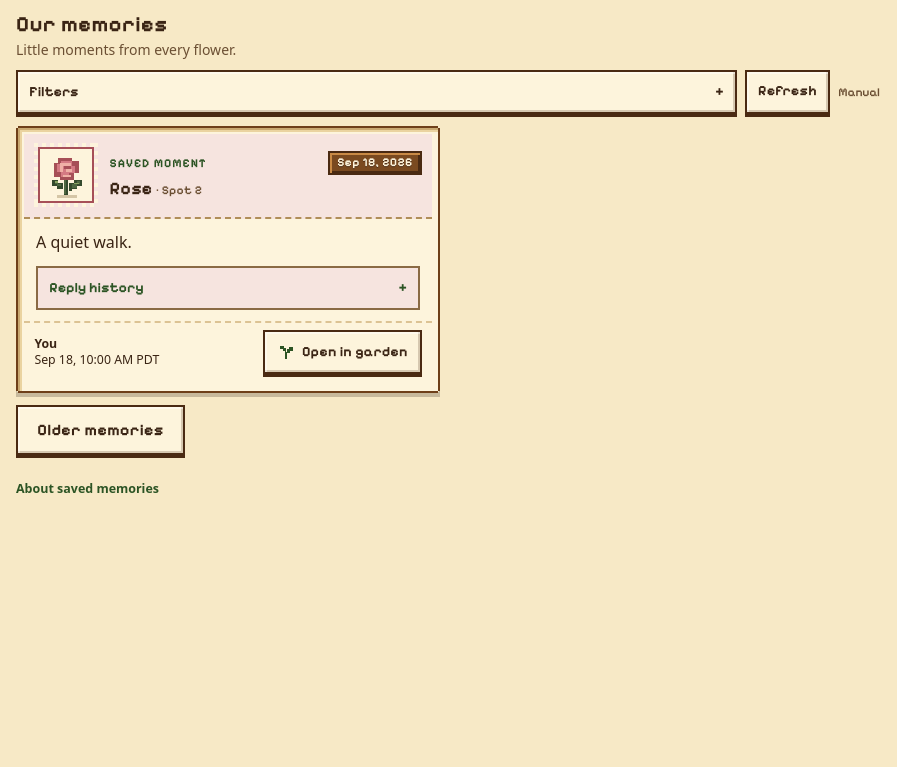
Scenario: rejects an old filter response and keeps real empty/error states distinct
The width and height of the screenshot is (897, 767).
Click the button "Older memories": (100, 430) [16,405,185,455]
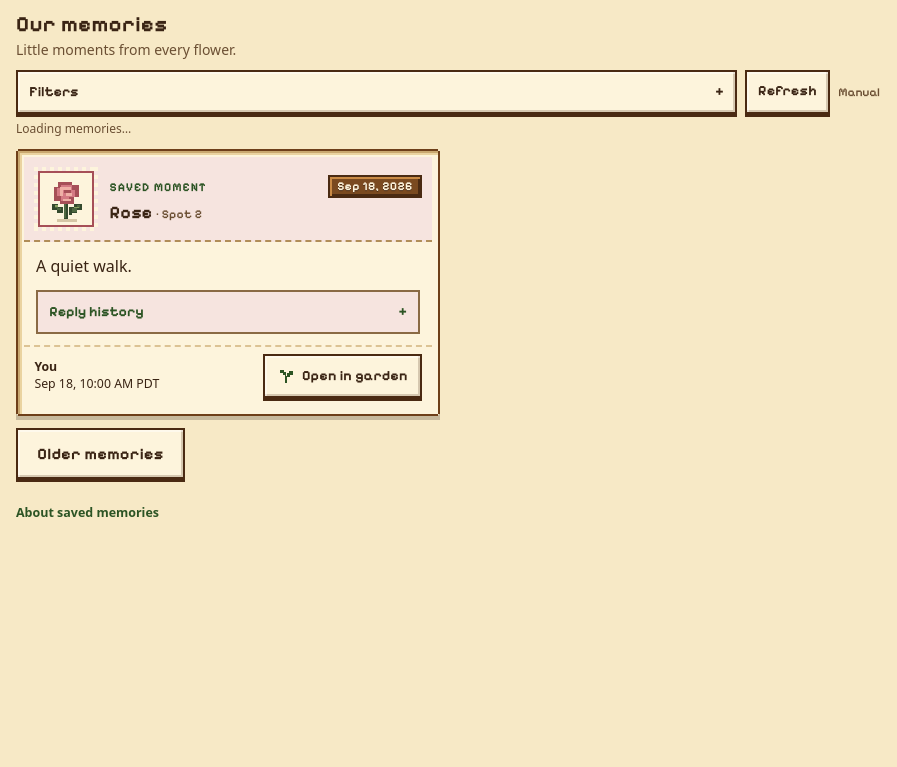
Click the button "Filters +": (54, 92) [16,70,737,114]
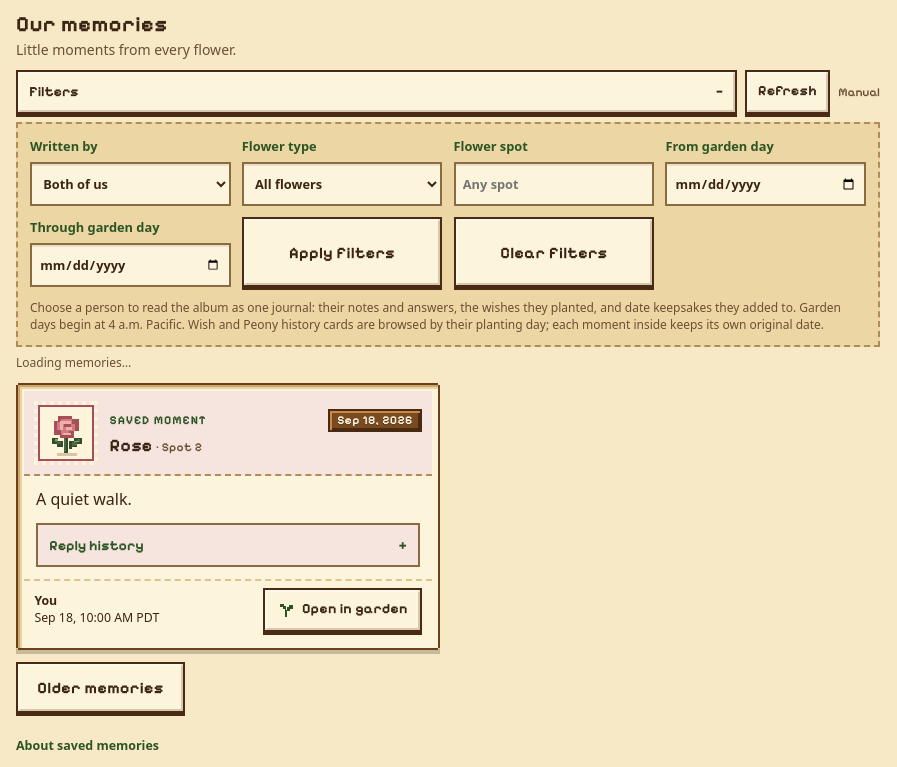
Select "Daisy" in the dropdown labelled "Flower type": (342, 184) [242,162,442,206]
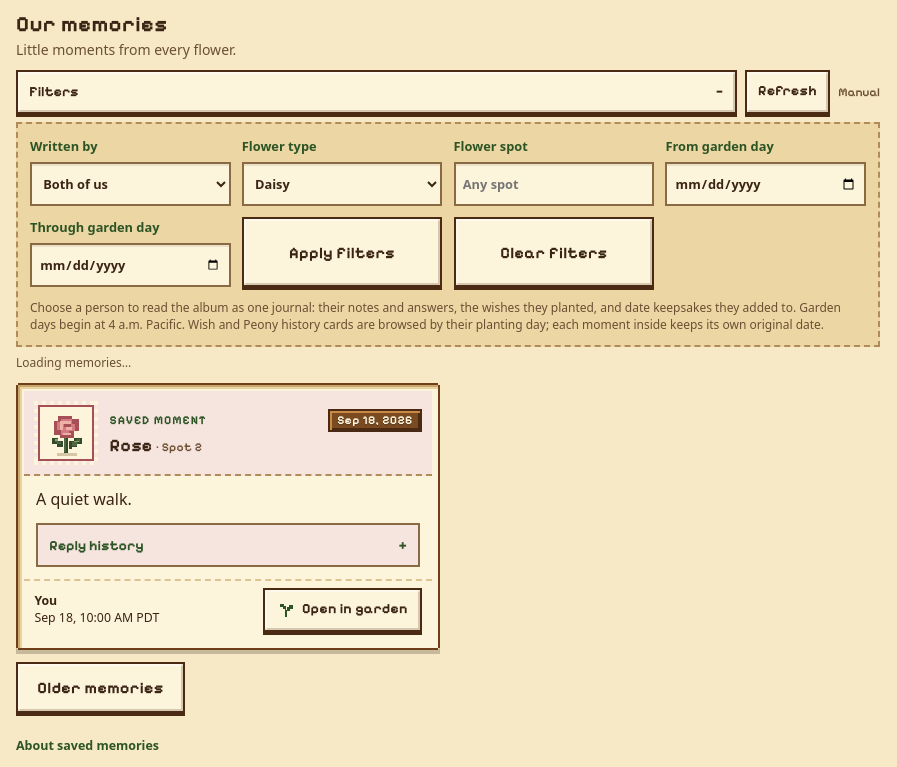
Click the button "Apply filters": (342, 252) [242,217,442,287]
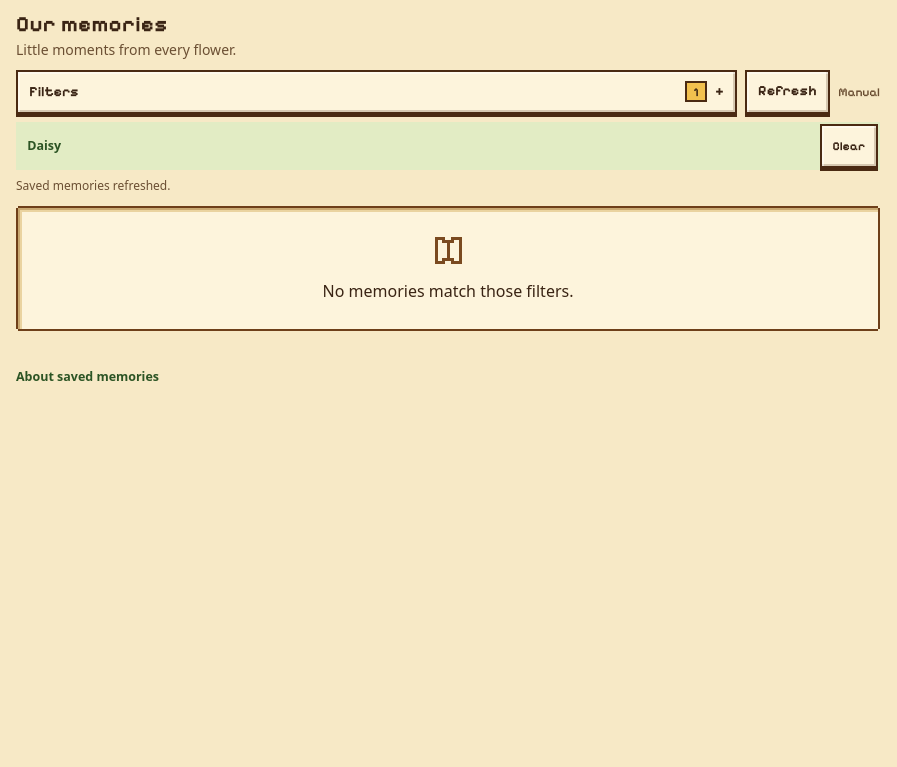
Expected: the text "No memories match those filters." is shown, [322,279,574,303]
Expected: the text "A quiet walk." is gone
Click the button with aria-label "Refresh memories": (787, 92) [745,70,830,114]
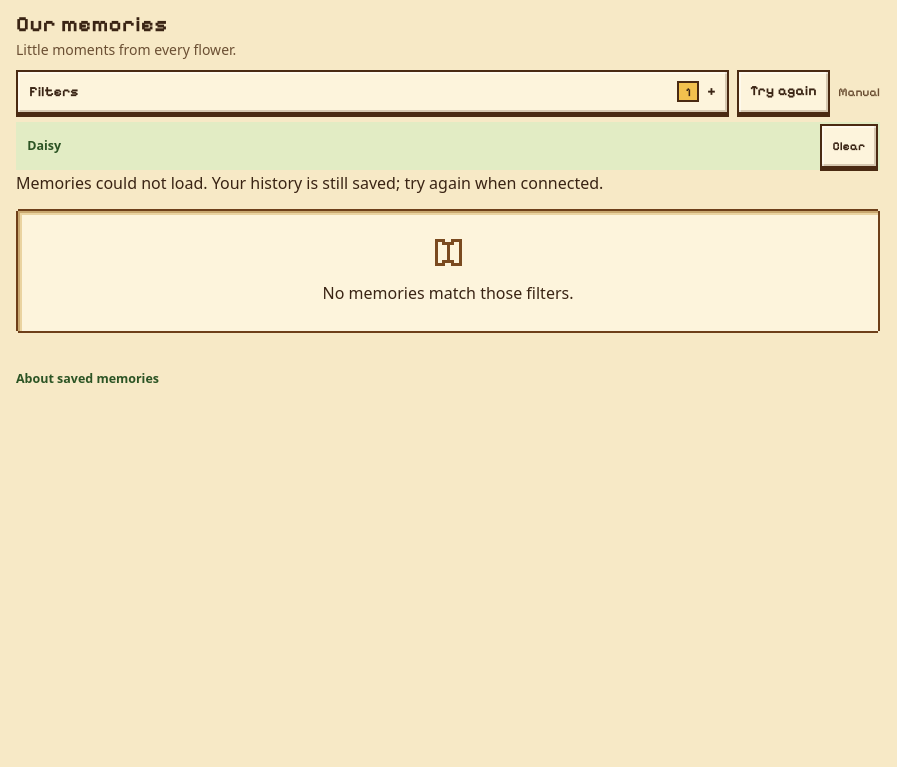
Expected: the 2nd message is shown, [16,172,603,194]
